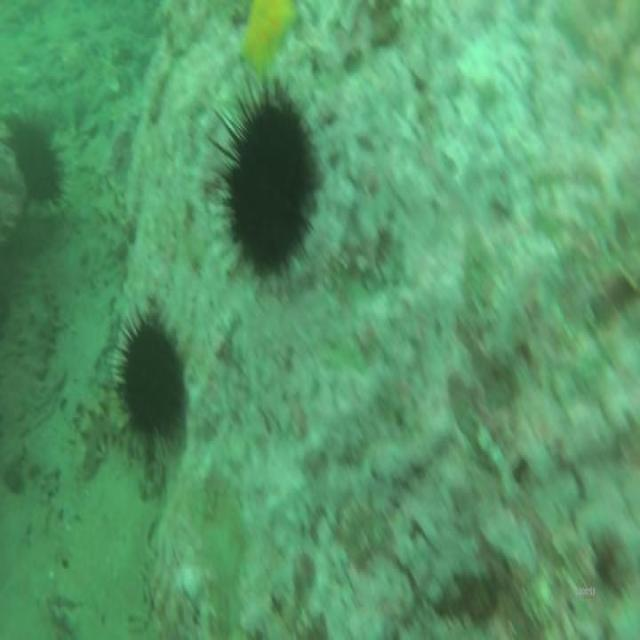echinus: (230, 95, 316, 280), (123, 321, 181, 438), (15, 124, 61, 202)
holothurian: (20, 264, 54, 378), (74, 381, 108, 483)
